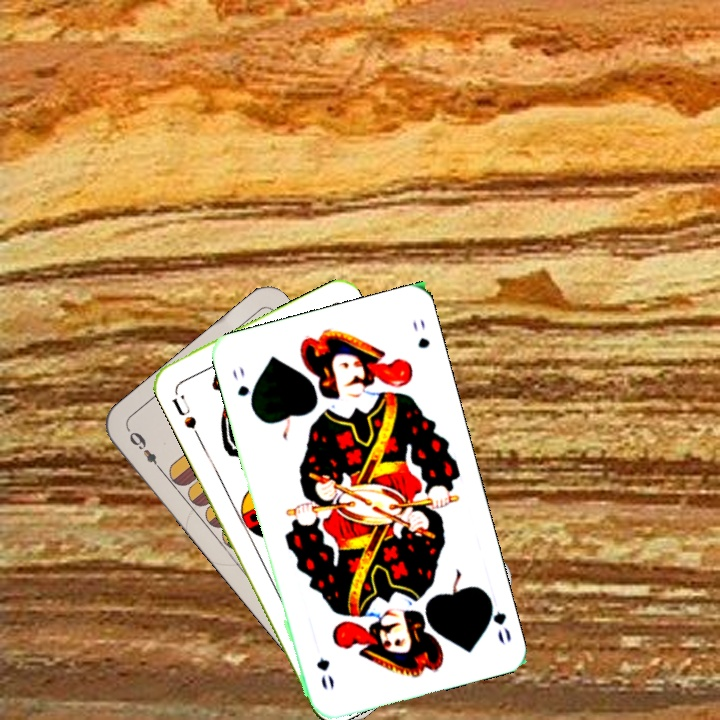E9: (125, 427, 166, 475)
GO: (482, 590, 514, 647), (228, 364, 257, 414)
SU: (167, 391, 203, 441)
